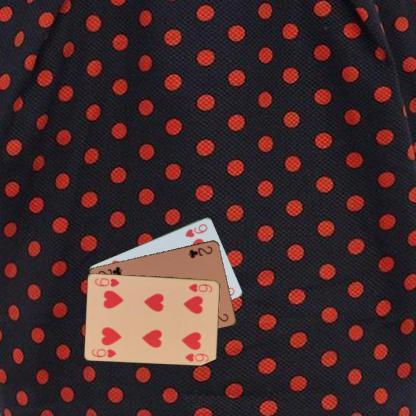2c: (186, 242, 214, 260)
6h: (186, 280, 214, 294), (89, 346, 118, 359)
9h: (182, 220, 209, 238)
